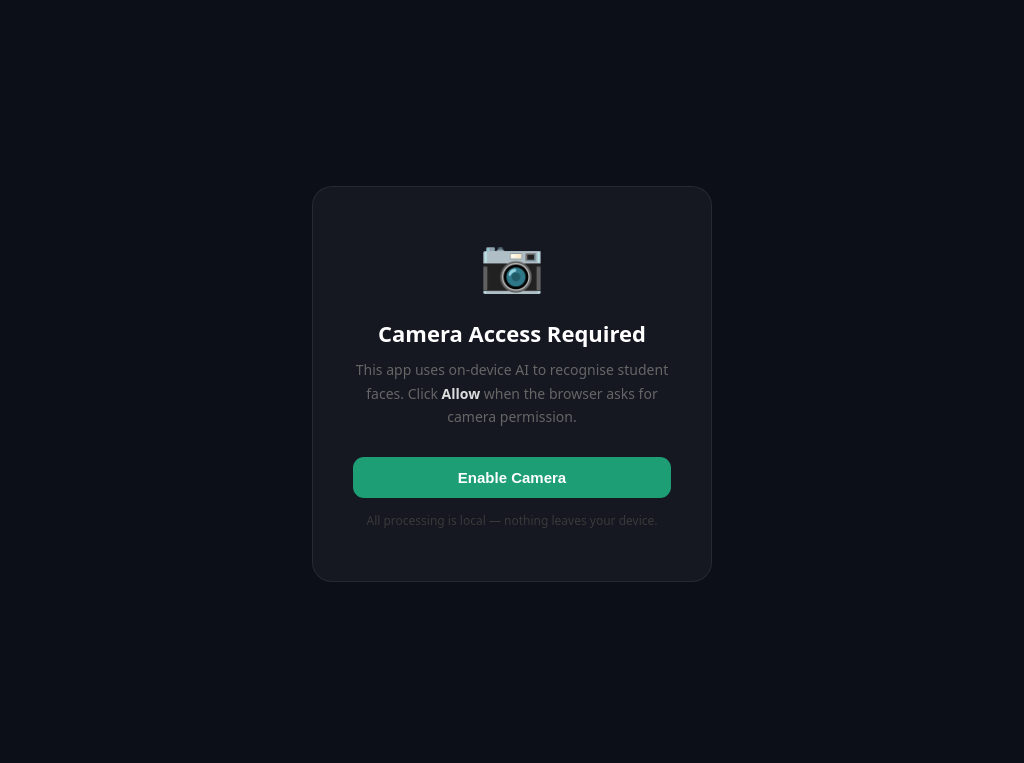
Test: App › resets all stored data after confirmation
The width and height of the screenshot is (1024, 763).
Click the button "Enable Camera".
click(512, 478)  # box [353,457,671,498]
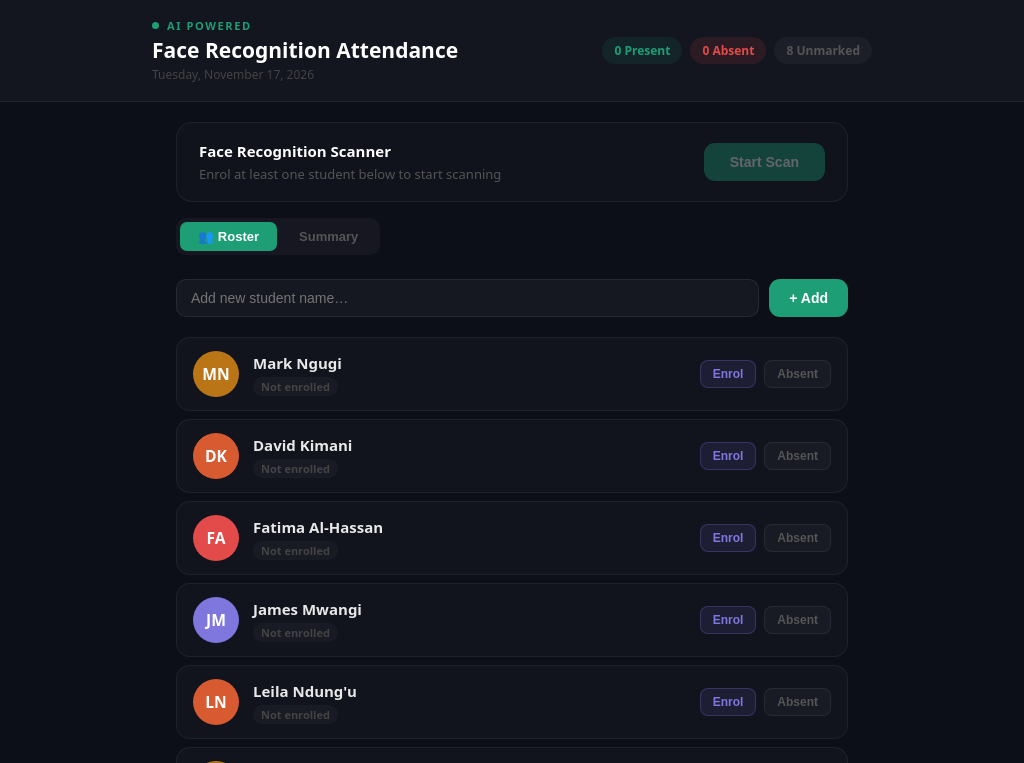
Type "Ada Lovelace" into the field labelled "Add new student name…".
click(468, 298); type("Ada Lovelace")  # box [176,279,759,317]
Then press Enter
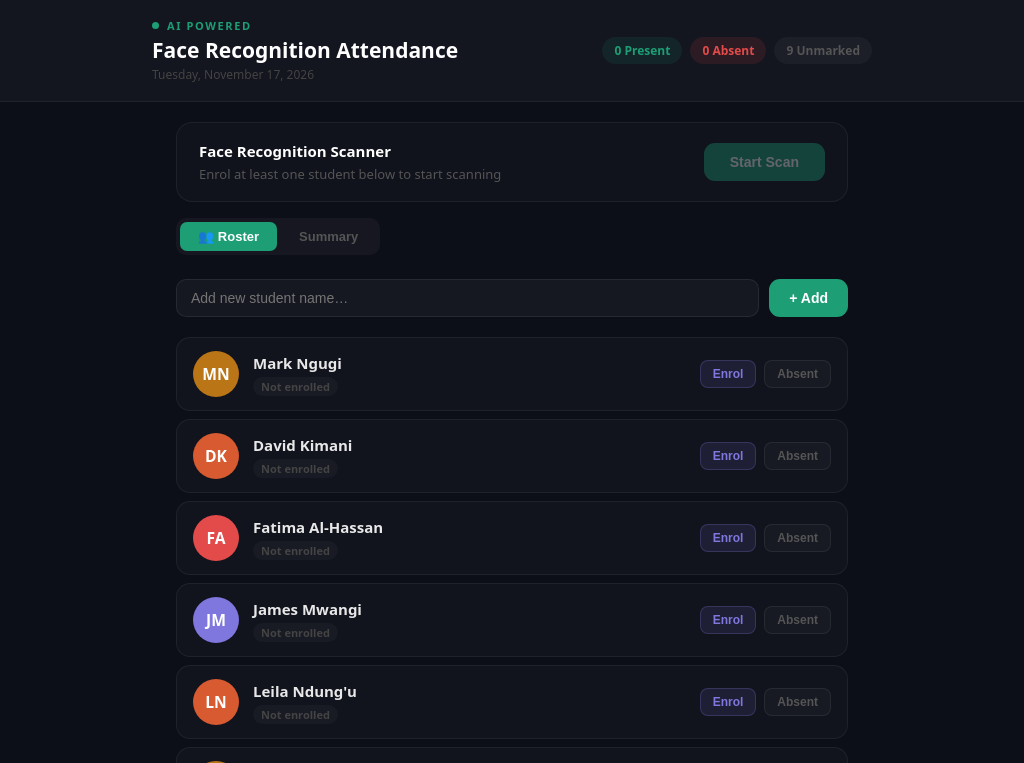
Click the button "Summary".
click(329, 236)  # box [281,222,376,251]
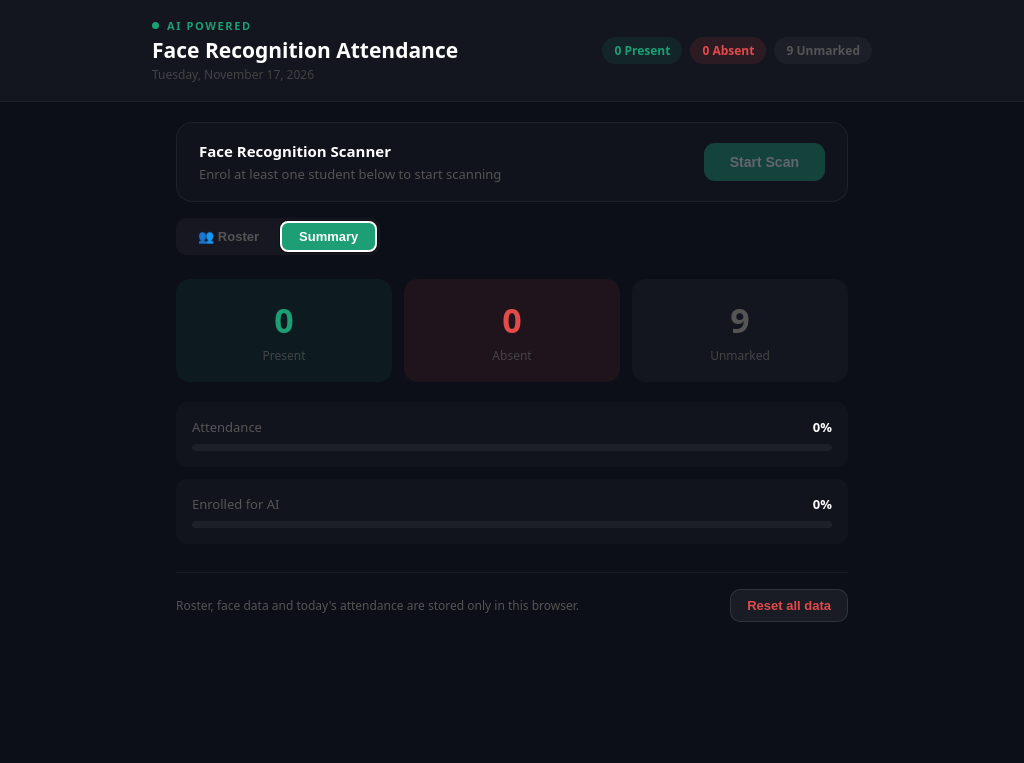
Click the button "Reset all data".
click(789, 606)  # box [730,589,848,622]
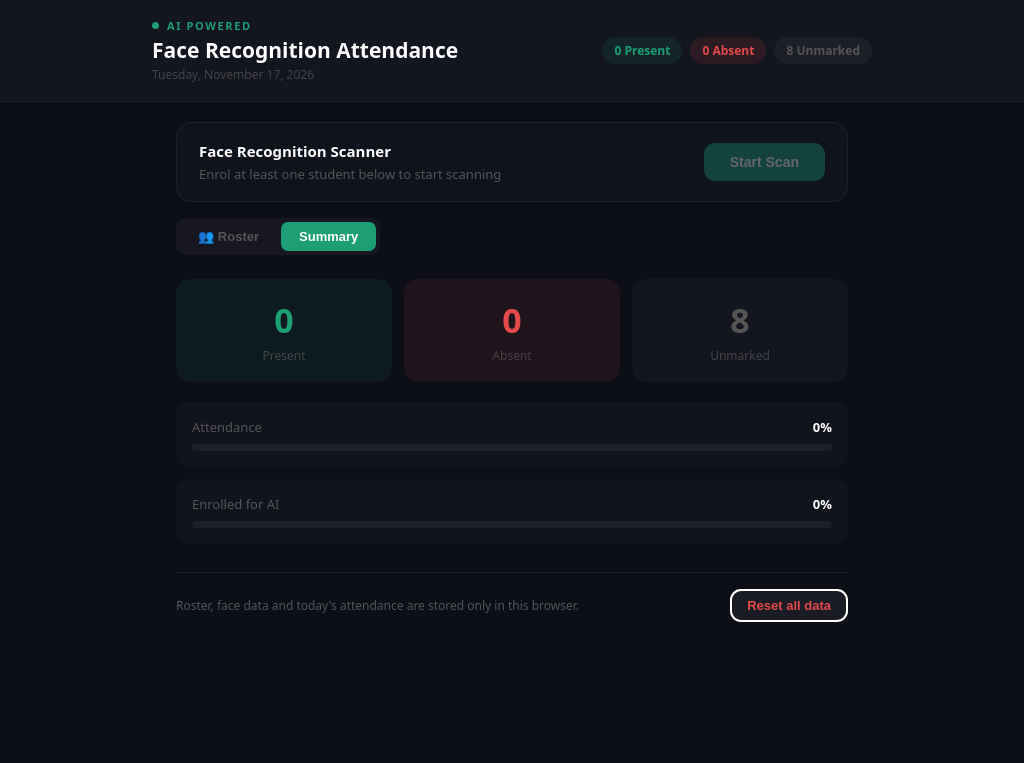
Click the button "👥 Roster".
click(228, 236)  # box [180,222,277,251]
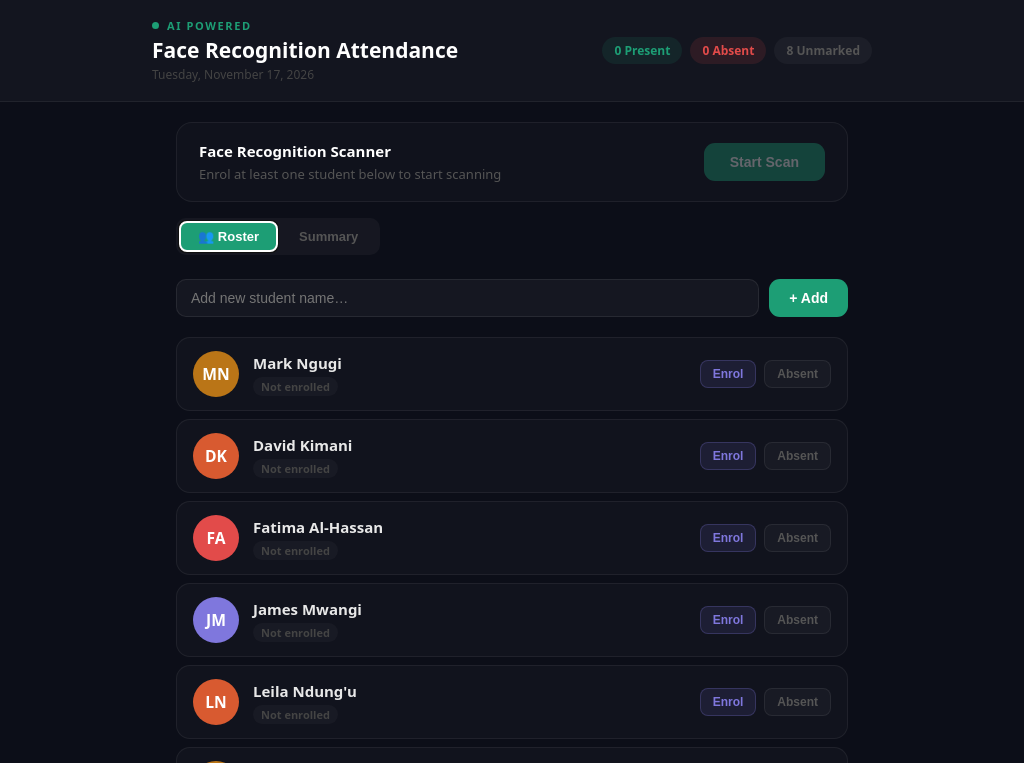
Now the number of list items is 8
